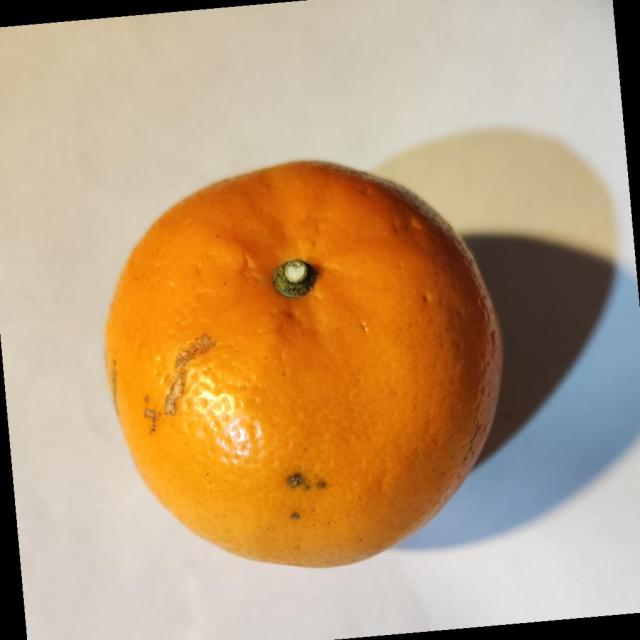fresh orange: (103, 158, 504, 569)
